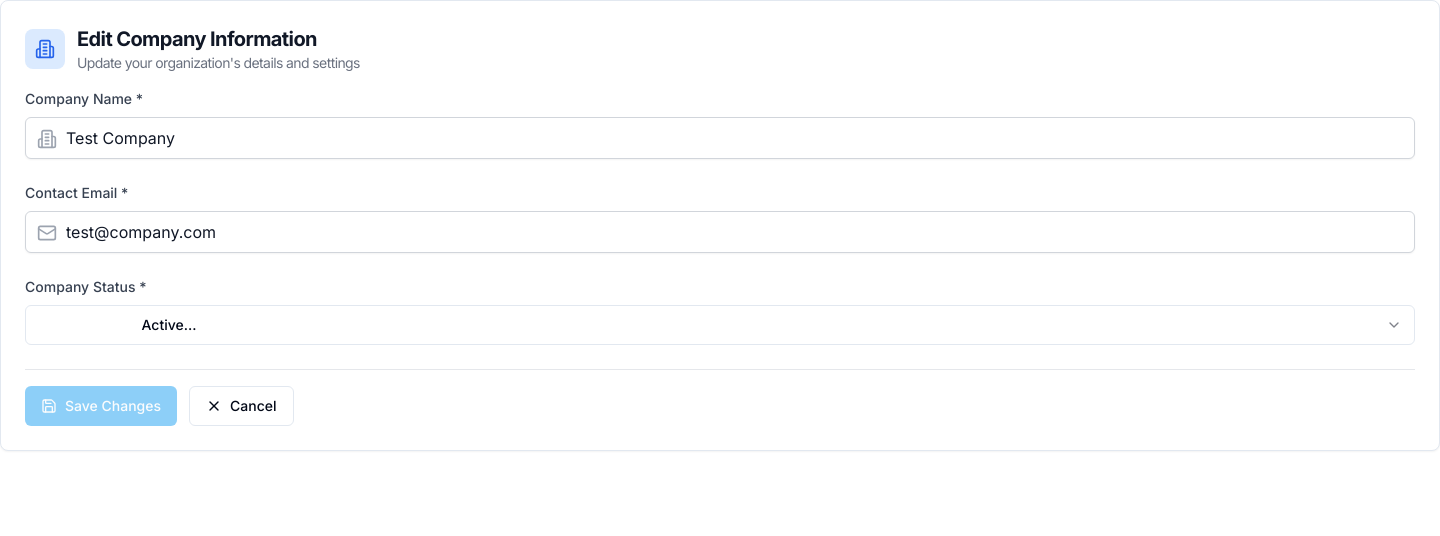
CompanyEditForm › Form Validation › should show validation error for empty company name
Clear the field showing "Test Company" at (720, 138), box [25, 117, 1415, 159]
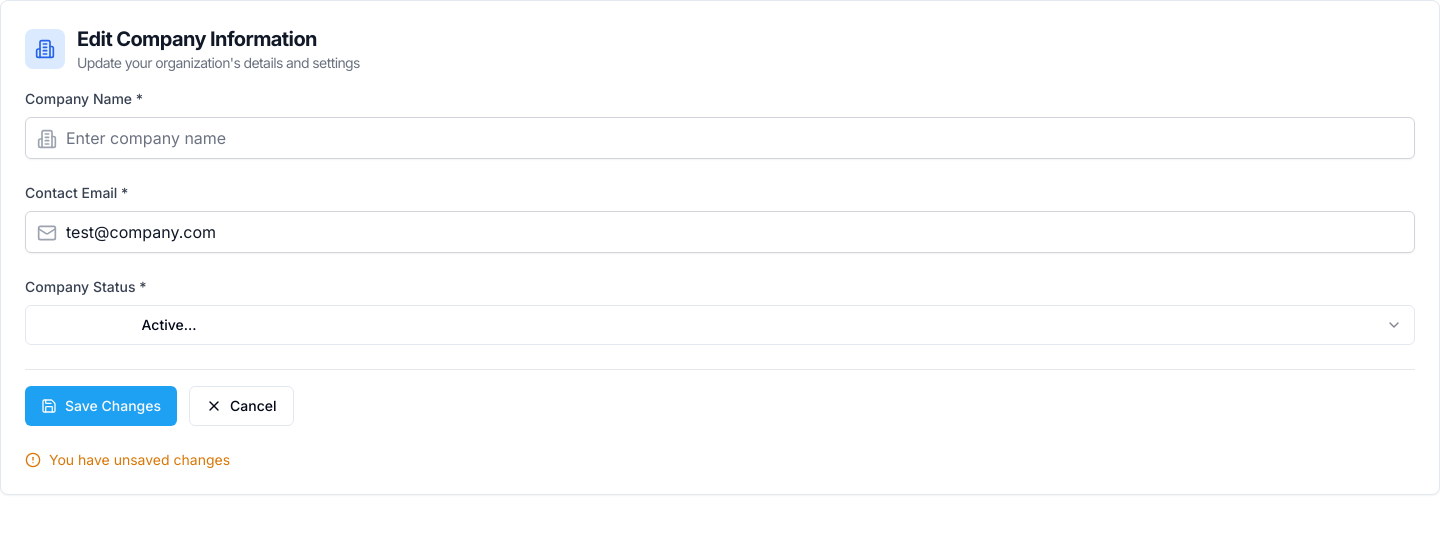
Click the button "Save Changes".
click(101, 406)  # box [25, 386, 177, 426]
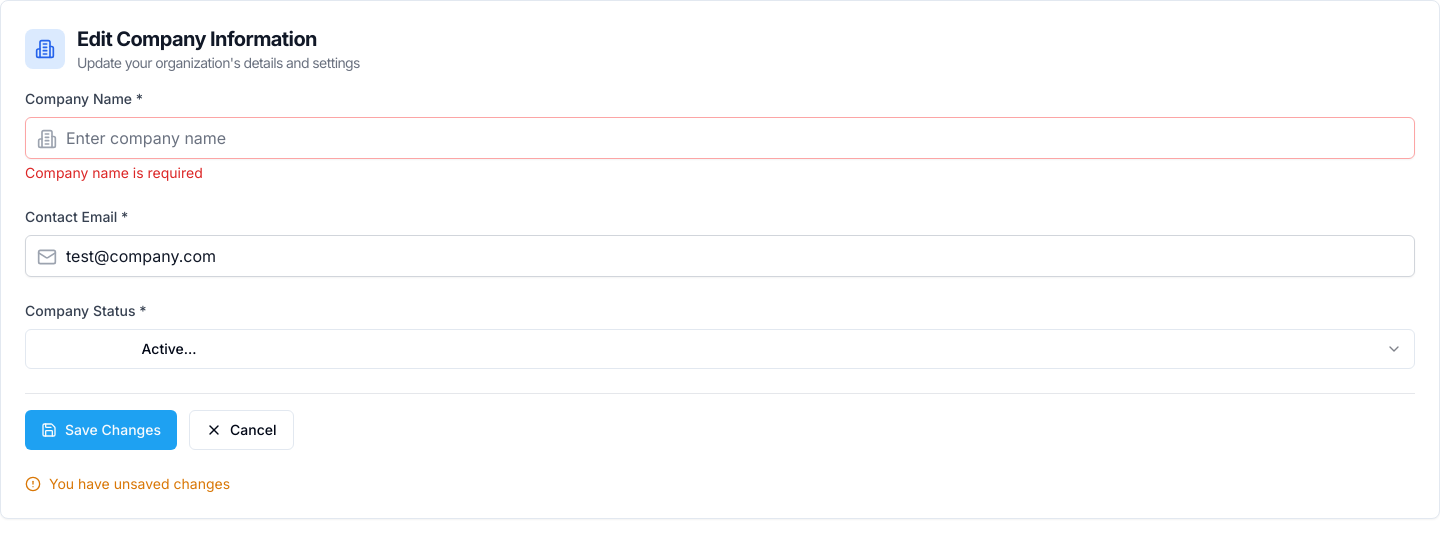
Check: the text "Company name is required" is shown, box [25, 164, 203, 181]
